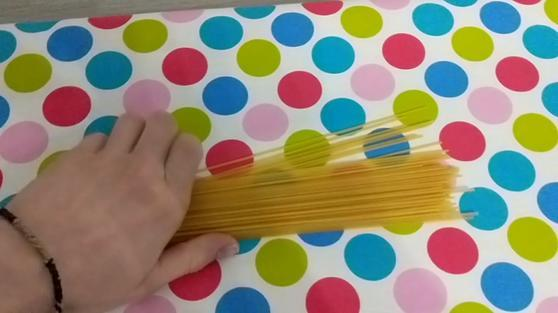spaghetti: (182, 110, 478, 255)
